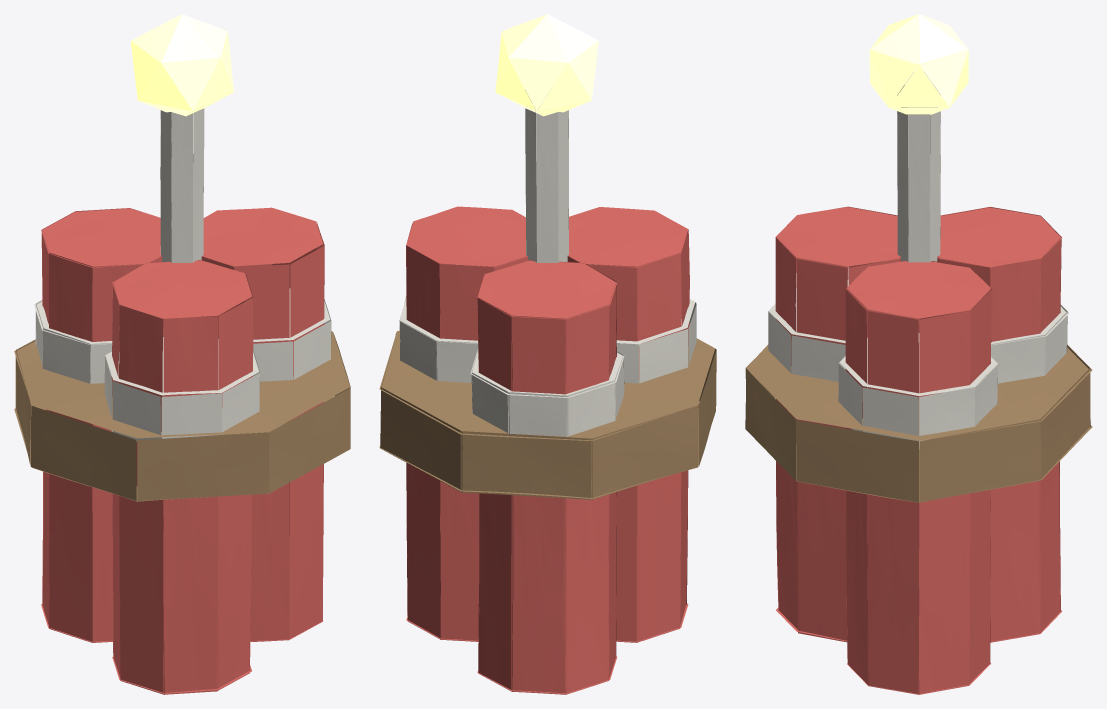
File: bomb.glb
3 views of the same model, side by side, from view 1: azimuth 30°, elevation 25°; view 2: azimuth 150°, elevation 25°; view 3: azimuth 270°, elevation 25° (orthographic).
Visible parts, largest first — view 1: PangBombStick0; view 2: PangBombStick0; view 3: PangBombStick0.
Boxes of the visible parts, box(x1,y1,x2,y2) form: PangBombStick0: box(14, 14, 350, 694); PangBombStick0: box(379, 14, 716, 694); PangBombStick0: box(745, 14, 1092, 694).
Size of the model in its own units: 0.723 by 1.41 by 0.7205.
